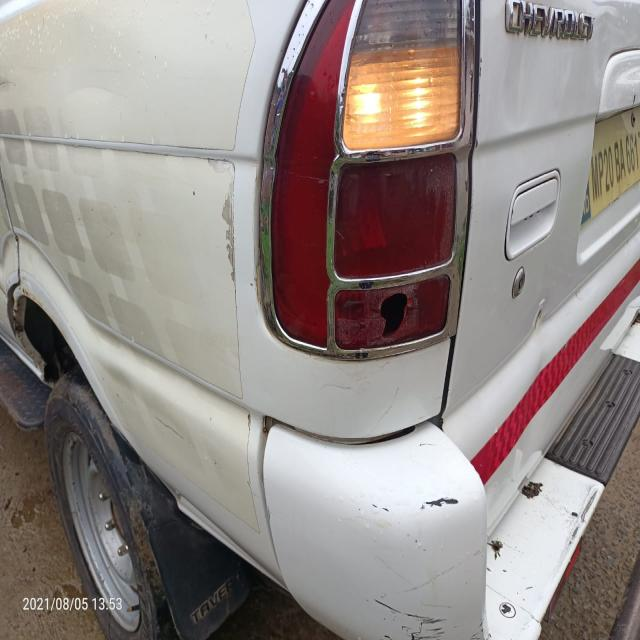damage: (364, 473, 491, 541), (333, 275, 442, 346), (350, 590, 471, 640)
